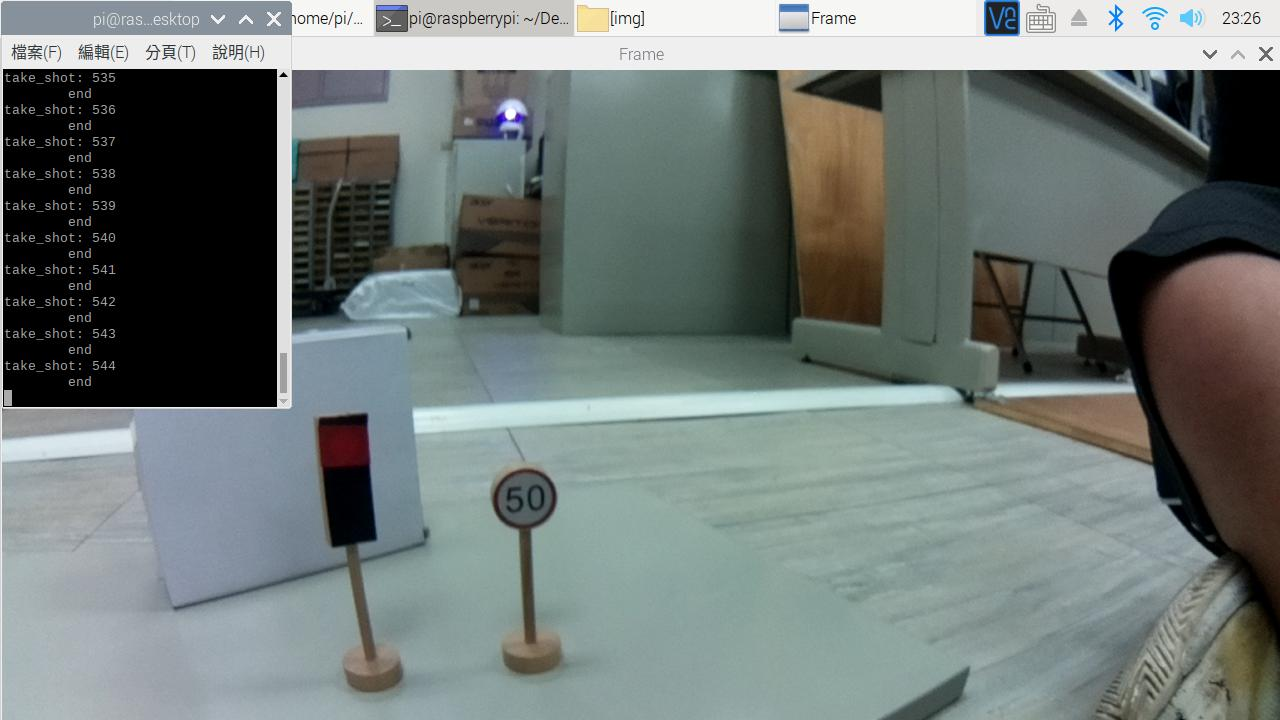Red: (300, 411, 401, 566)
Speed50: (481, 461, 565, 536)
